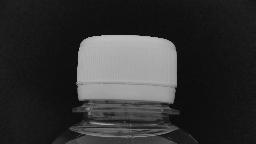Good Cap: (65, 29, 185, 119)
